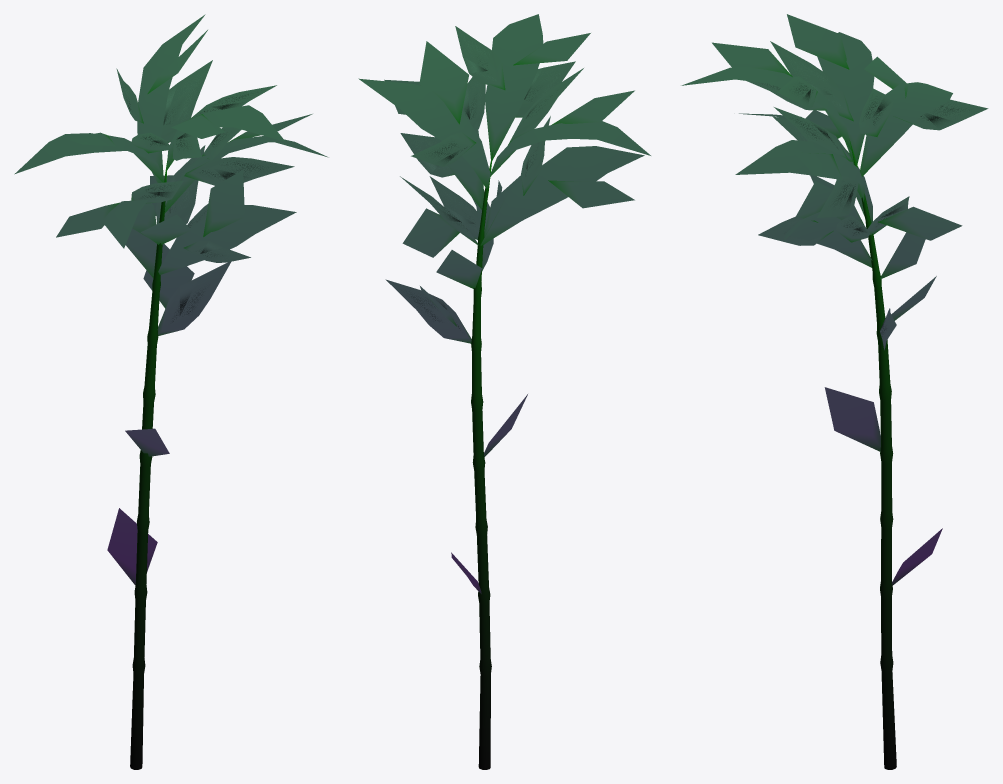
File: TSI_Bamboo_04A.fbx
3 views of the same model, side by side, from view 1: azimuth 30°, elevation 25°; view 2: azimuth 150°, elevation 25°; view 3: azimuth 270°, elevation 25° (orthographic). The views are drawn at different scales.
Visible parts, largest first — view 1: TSI_Bamboo_04A_LOD0; view 2: TSI_Bamboo_04A_LOD0; view 3: TSI_Bamboo_04A_LOD0.
Part boxes in pixels (left/top/right/bottom): TSI_Bamboo_04A_LOD0: left=14, top=14, right=328, bottom=769; TSI_Bamboo_04A_LOD0: left=358, top=14, right=650, bottom=769; TSI_Bamboo_04A_LOD0: left=681, top=14, right=988, bottom=769.
Size of the model in its own units: 219 by 528 by 198.
